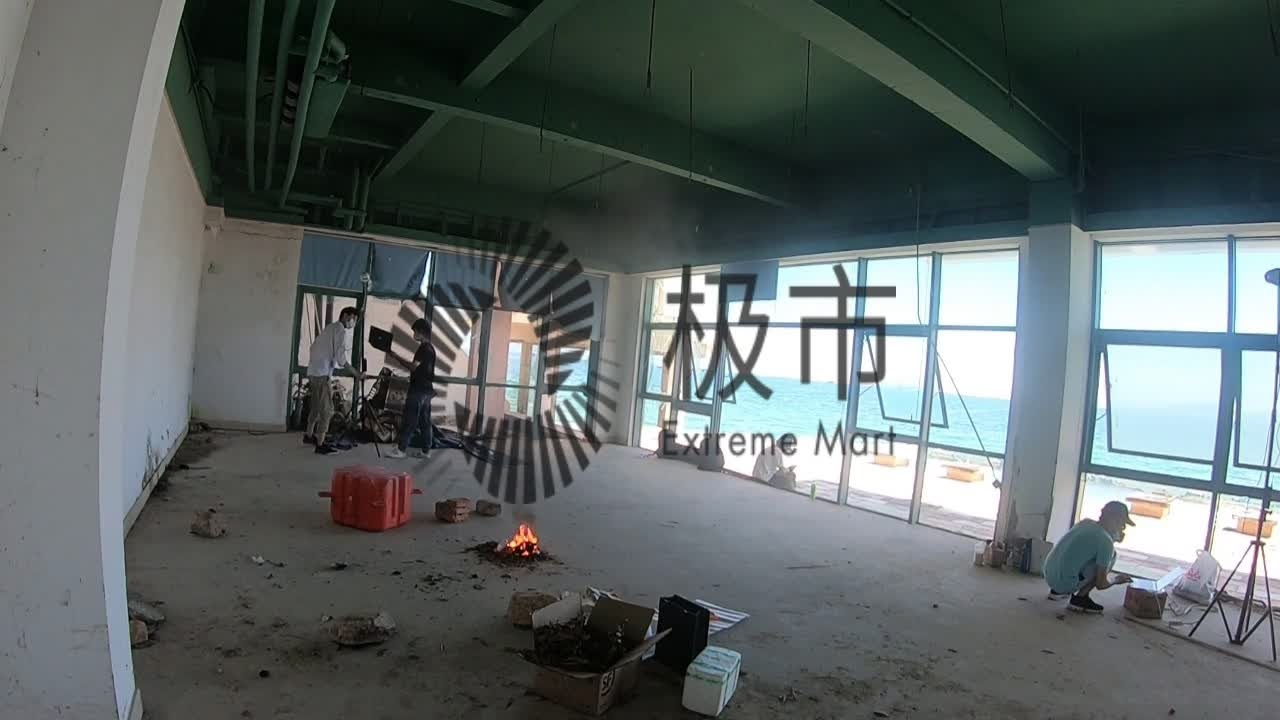fire: (505, 521, 543, 564)
